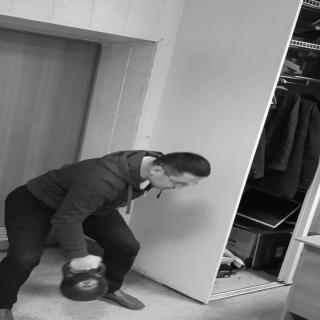kettlebell: (62, 262, 106, 303)
